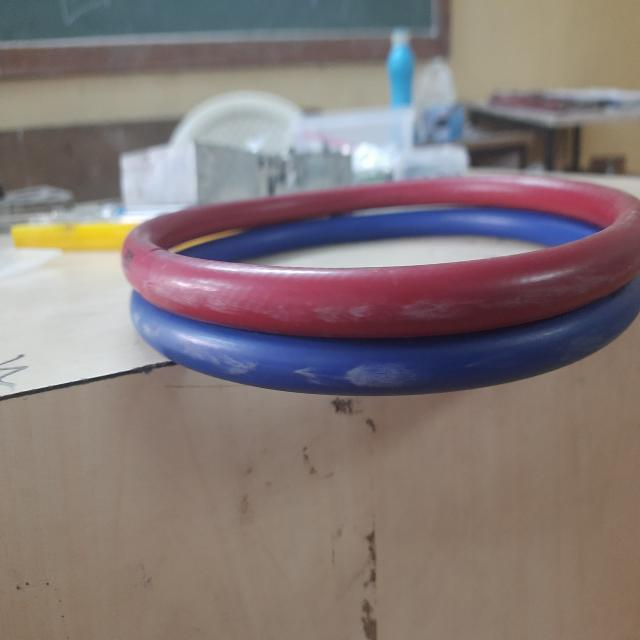daire: (157, 224, 621, 321), (151, 341, 593, 393)
